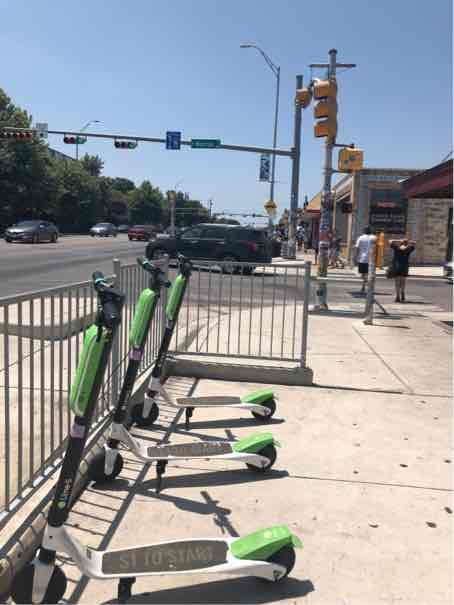scooter: (20, 259, 282, 605), (77, 242, 252, 490), (127, 241, 287, 466)
